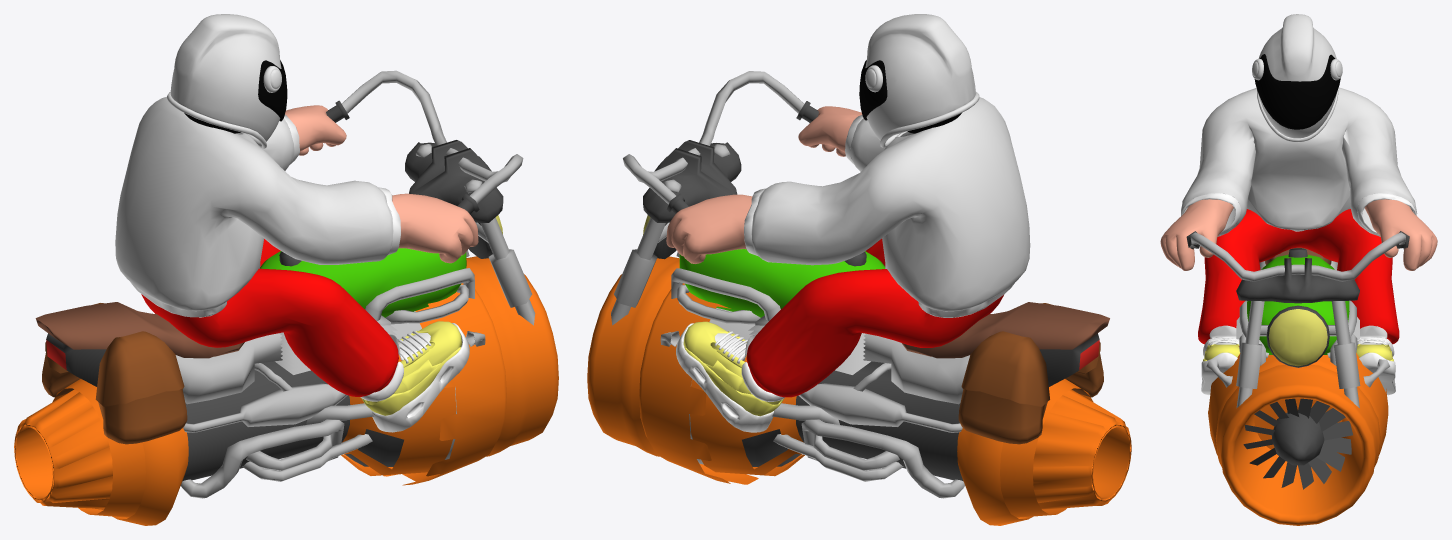
File: Motor.fbx
3 views of the same model, side by side, from view 1: azimuth 30°, elevation 25°; view 2: azimuth 150°, elevation 25°; view 3: azimuth 270°, elevation 25° (orthographic). The views are drawn at different scales.
Parts seen in each view (by area): view 1: Mat_CyberpunkBike_lod0, Racing_Helmet.001_Cube.002; view 2: Mat_CyberpunkBike_lod0, Racing_Helmet.001_Cube.002; view 3: Racing_Helmet.001_Cube.002, Mat_CyberpunkBike_lod0.
Boxes of the visible parts, <box> form: Mat_CyberpunkBike_lod0: <box>14,70,558,525</box>; Racing_Helmet.001_Cube.002: <box>115,14,478,432</box>; Mat_CyberpunkBike_lod0: <box>587,71,1131,525</box>; Racing_Helmet.001_Cube.002: <box>666,14,1030,432</box>; Racing_Helmet.001_Cube.002: <box>1160,14,1437,395</box>; Mat_CyberpunkBike_lod0: <box>1186,231,1409,525</box>.
Size of the model in its own units: 24.17 by 24.1 by 14.9.
Materials: 3 (2 with a texture image).
